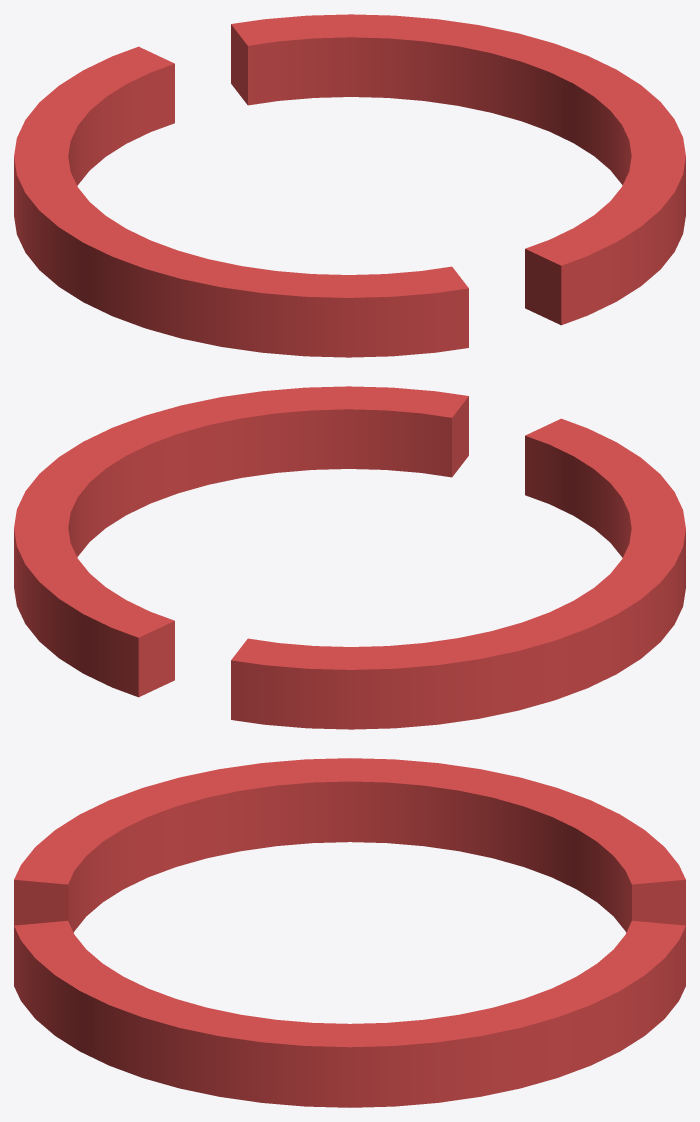
File: Aim.fbx
3 renders of one model, top to bottom at view 1: azimuth 30°, elevation 25°; view 2: azimuth 150°, elevation 25°; view 3: azimuth 270°, elevation 25°, orthographic.
Visible parts, largest first — view 1: Aim; view 2: Aim; view 3: Aim.
Boxes of the visible parts, box(x1,y1,x2,y2) form: Aim: box(14, 14, 685, 357); Aim: box(14, 386, 685, 729); Aim: box(14, 758, 685, 1107).
Size of the model in its own units: 2.78 by 0.2717 by 2.73.
